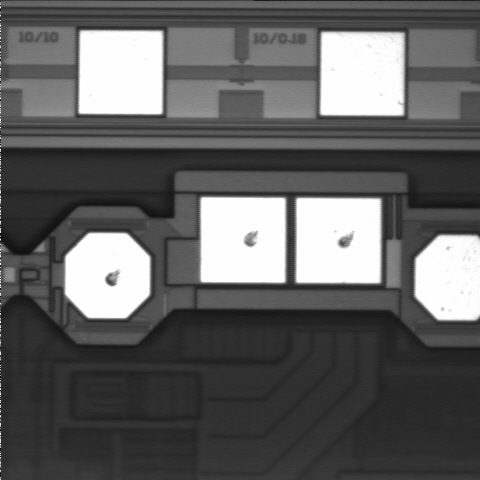pad: (296, 198, 381, 283), (65, 233, 150, 318), (201, 197, 285, 283), (79, 31, 163, 114), (320, 32, 404, 115)
